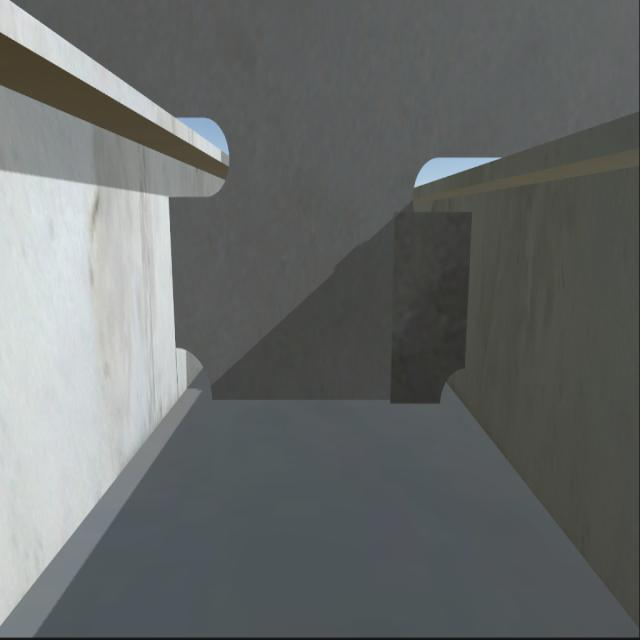fillet_hole: (180, 347, 212, 397), (439, 364, 466, 407)
fillet_yong_jeop_jang: (213, 399, 436, 409)
longi_yong_jeop_jang: (166, 197, 183, 339), (460, 215, 473, 362)
plate_CP01: (392, 217, 473, 402)
